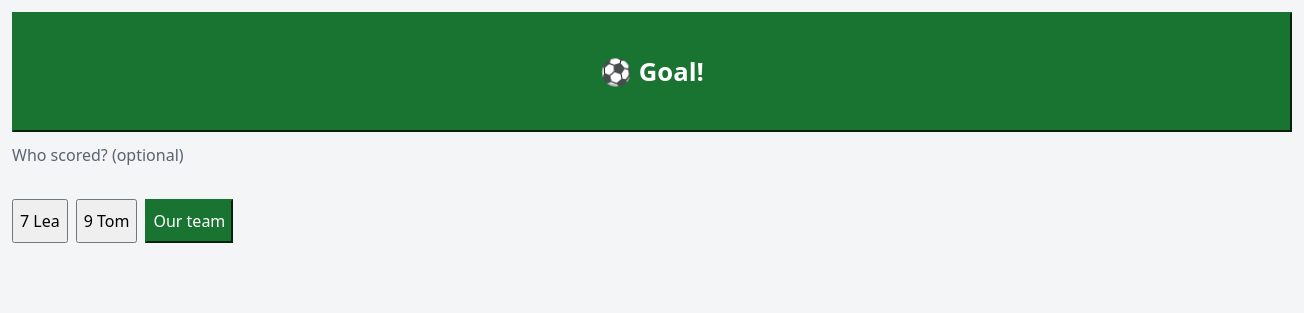
score still plays its sound when TTS fails
Click the button "⚽ Goal!". click: click(652, 72)
box: [12, 12, 1292, 132]
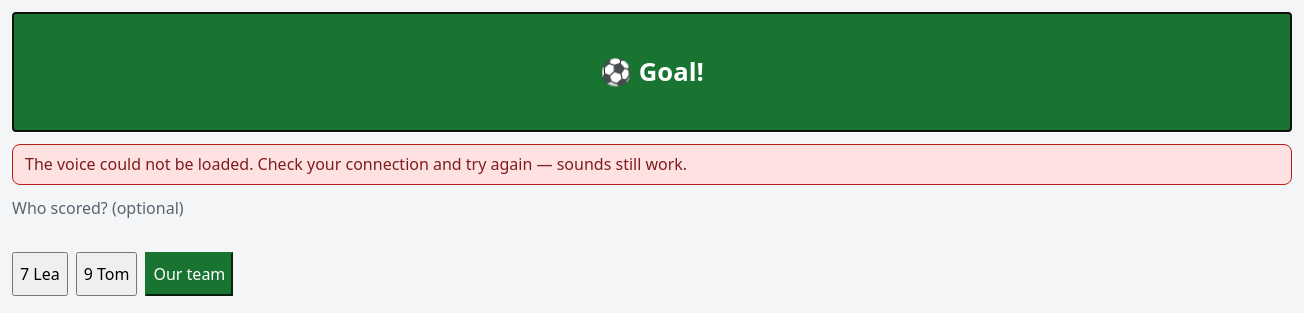
Result: the message shows "sounds still work" at [25, 153, 687, 175]
